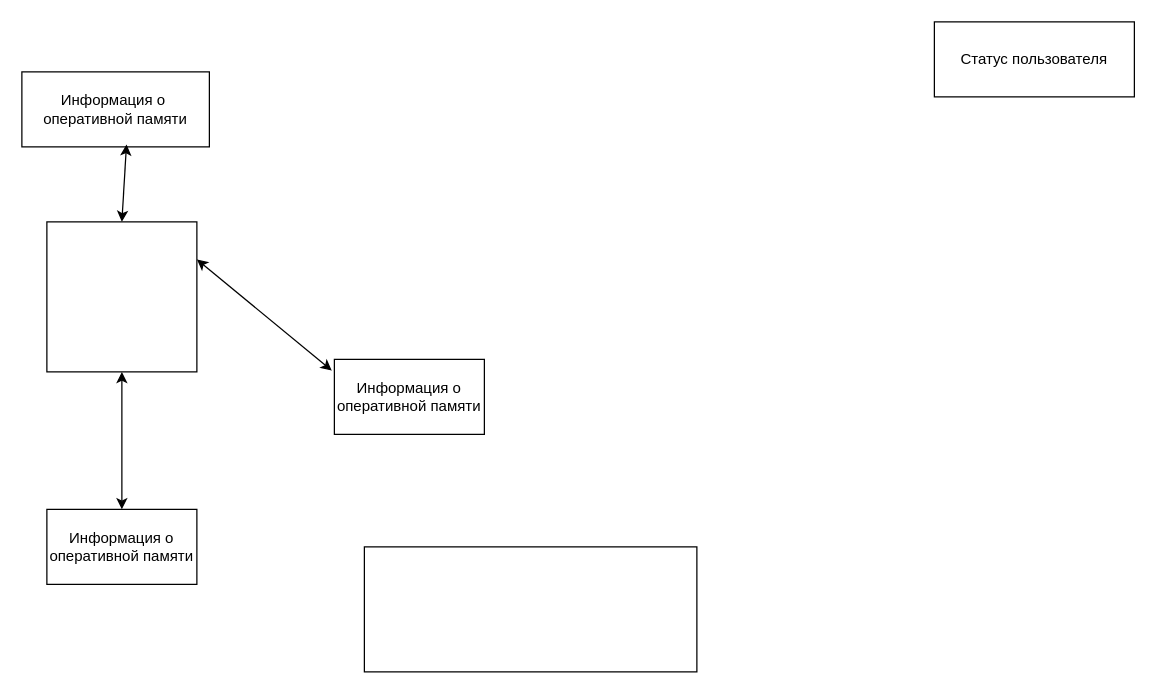
Image size: 1156x694. Some labels were removed from this diagram. The box of each missing label's shape, as (x1, y1, x2, y2) in pixels:
Как оперативная память взаимодействует с другими комплекутющими: (363, 546, 697, 672)
Фото оперативной памяти: (46, 221, 197, 372)
